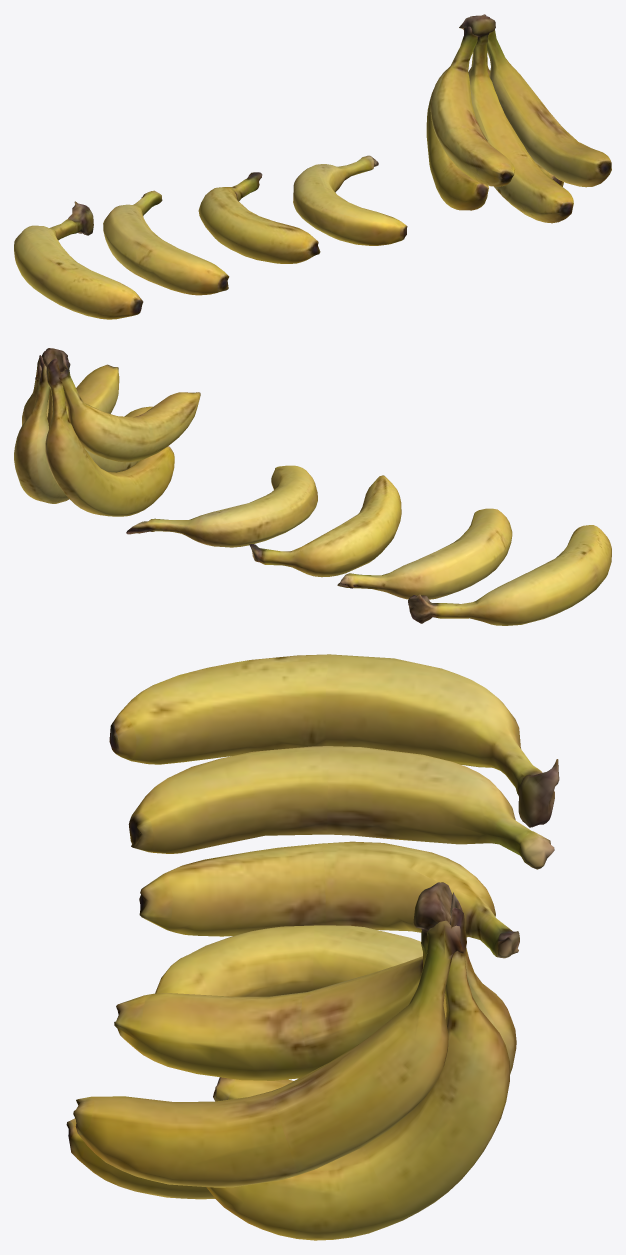
File: bananas.glb
The picture shows the model from 3 angles, top to bottom: view 1: azimuth 30°, elevation 25°; view 2: azimuth 150°, elevation 25°; view 3: azimuth 270°, elevation 25°; orthographic projection. The views are drawn at different scales.
Visible parts, largest first — view 1: bananas_bunch; view 2: bananas_bunch; view 3: bananas_bunch.
Part boxes in pixels (<box>): bananas_bunch: <box>14,14,611,319</box>; bananas_bunch: <box>14,348,611,625</box>; bananas_bunch: <box>66,654,559,1240</box>.
Size of the model in its own units: 0.6 by 0.1786 by 0.2441.
1 material, 1 textured.
